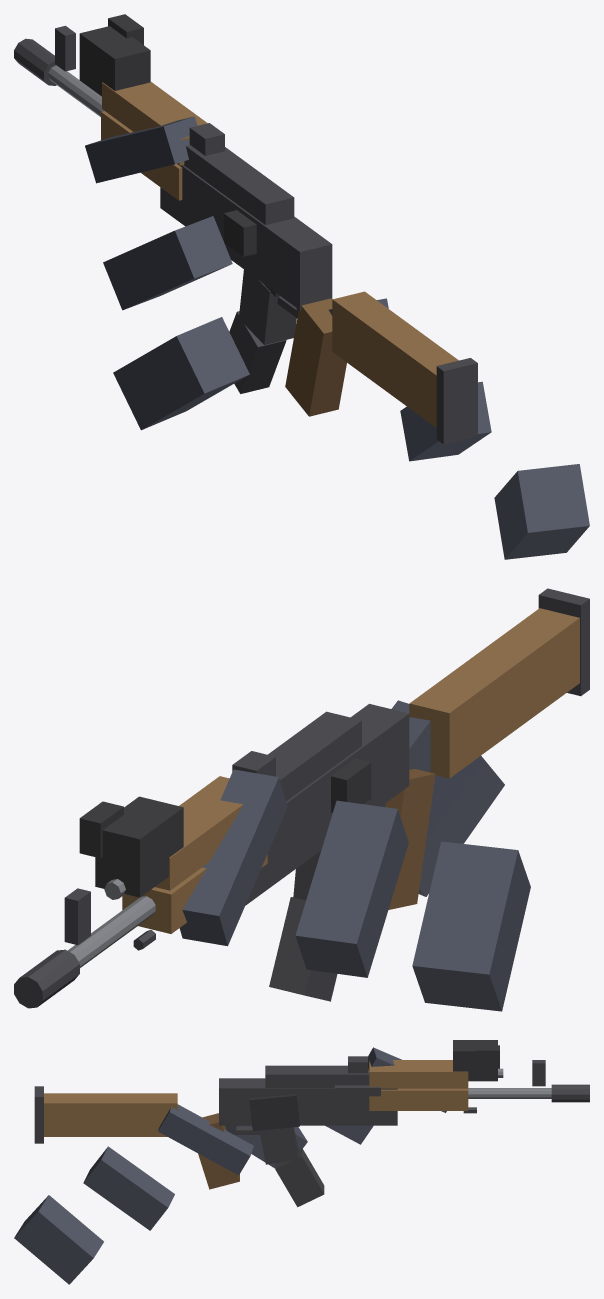
3 views of the same model, one above another, from view 1: azimuth 30°, elevation 25°; view 2: azimuth 150°, elevation 25°; view 3: azimuth 270°, elevation 25° (orthographic). The views are drawn at different scales.
Parts seen in each view (by area): view 1: AK47, arms; view 2: arms, AK47; view 3: AK47, arms.
Part boxes in pixels (x1=…): AK47: x1=14, y1=25, x2=477, y2=444; arms: x1=79, y1=14, x2=589, y2=559; arms: x1=79, y1=700, x2=530, y2=1011; AK47: x1=14, y1=588, x2=589, y2=1008; AK47: x1=34, y1=1056, x2=589, y2=1207; arms: x1=14, y1=1040, x2=499, y2=1284.
Bounding box in the file's own units: 0.3162 × 0.3373 × 0.8713.
